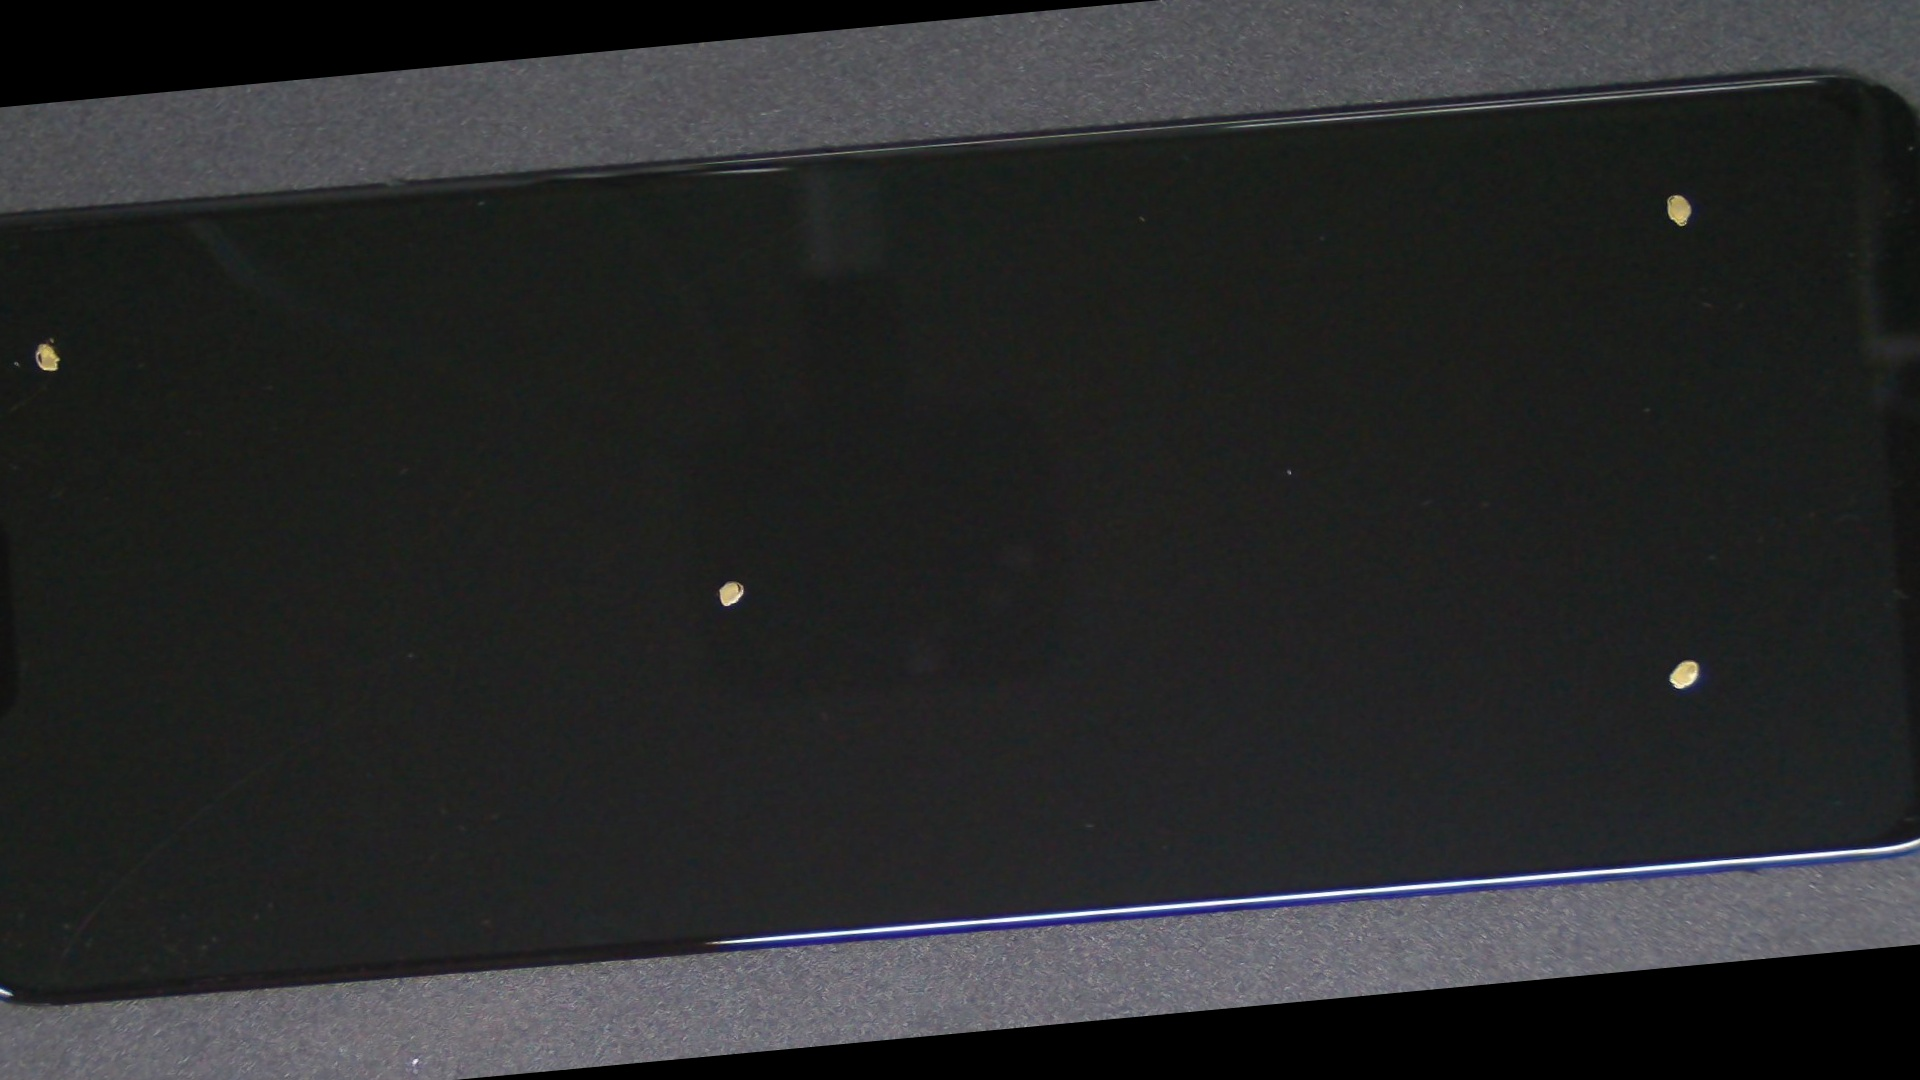oil: (732, 272, 1920, 1048), (253, 269, 1212, 889), (728, 45, 1920, 400), (0, 212, 170, 471)
